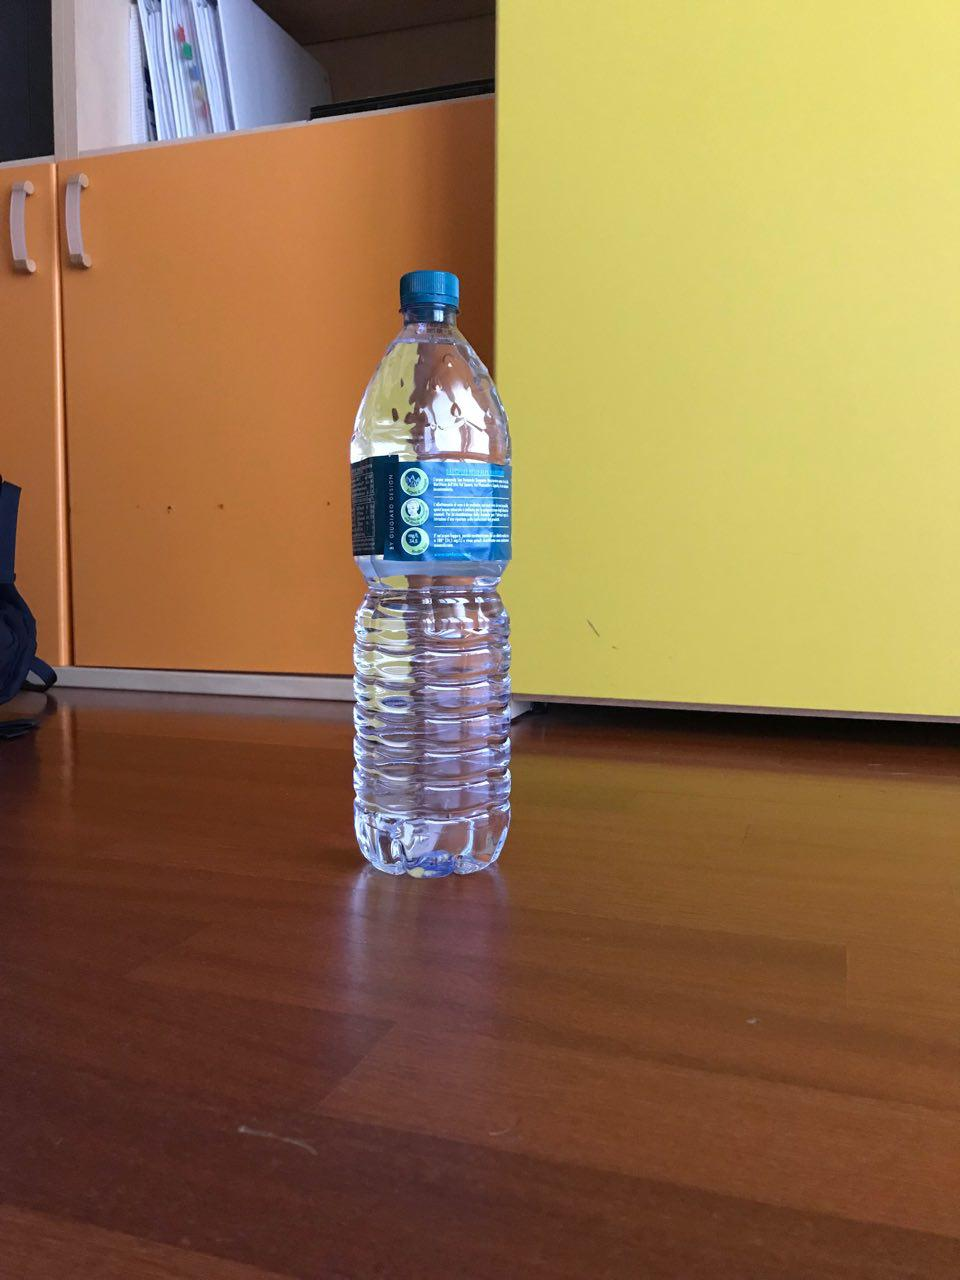san_bernardo: (346, 266, 514, 881)
